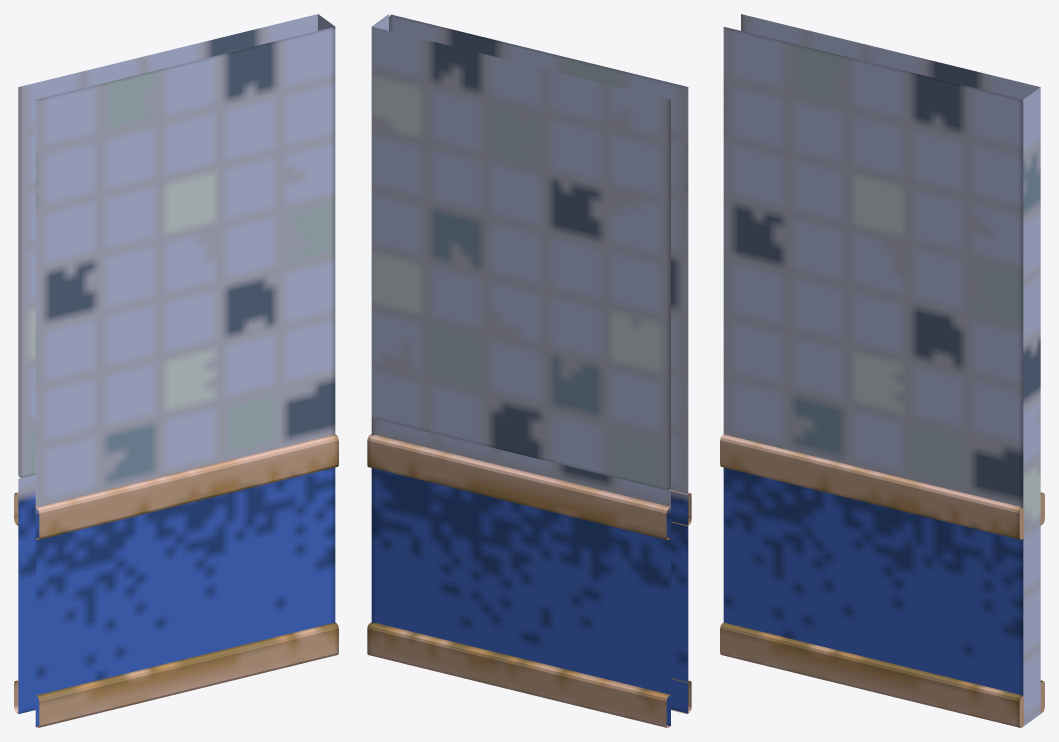
File: Wall_TipoB_3.fbx
3 views of the same model, side by side, from view 1: azimuth 30°, elevation 25°; view 2: azimuth 150°, elevation 25°; view 3: azimuth 330°, elevation 25° (orthographic).
Visible parts, largest first — view 1: Cube.121, Cube.123, Cube.120; view 2: Cube.121, Cube.124, Cube.122; view 3: Cube.121, Cube.123, Cube.120.
Part boxes in pixels (x1,y1,x2,y2): Cube.121: [18, 14, 335, 726]; Cube.123: [35, 622, 338, 727]; Cube.120: [35, 434, 338, 539]; Cube.121: [371, 14, 688, 725]; Cube.124: [367, 622, 670, 727]; Cube.122: [367, 434, 670, 539]; Cube.121: [723, 14, 1040, 725]; Cube.123: [720, 622, 1023, 727]; Cube.120: [720, 434, 1023, 539].
Size of the model in its own units: 200 by 400 by 28.98.
